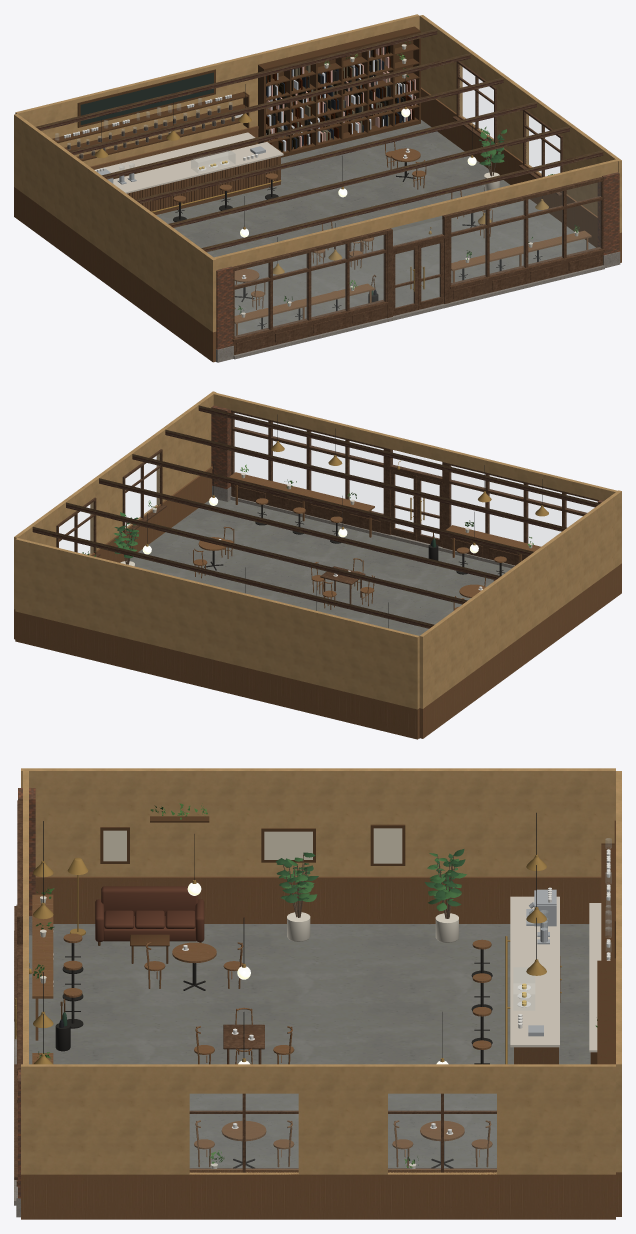
The model's file is cafe_interior.glb.
3 renders of one model, top to bottom at view 1: azimuth 30°, elevation 25°; view 2: azimuth 150°, elevation 25°; view 3: azimuth 270°, elevation 25°, orthographic. The views are drawn at different scales.
Visible parts, largest first — view 1: int_floor, WALL_front_shop_glass, WALL_left_plaster, WALL_front_shop_wood, int_beams, WALL_back_cafe_int_shelf, WALL_back_plaster, WALL_right_plaster, WALL_left_wainscot, WALL_front_front_plaster, WALL_back_books, WALL_right_wainscot (+17 smaller); view 2: WALL_back_plaster, int_floor, WALL_left_plaster, int_beams, WALL_back_wainscot, WALL_front_shop_glass, WALL_front_shop_wood, WALL_right_plaster, WALL_left_wainscot, WALL_front_front_plaster, WALL_right_wainscot, int_window_counter (+7 smaller); view 3: int_floor, WALL_left_plaster, WALL_right_plaster, WALL_right_wainscot, WALL_left_wainscot, WALL_right_winglass, int_bartop, int_sofa, WALL_back_cafe_int_shelf, WALL_left_prints, cafe_interior.1_inst, cafe_interior.2_inst (+18 smaller).
Part boxes in pixels (<box>): int_floor: <box>156,120,595,335</box>; WALL_front_shop_glass: <box>235,182,600,336</box>; WALL_left_plaster: <box>14,114,216,332</box>; WALL_front_shop_wood: <box>232,177,605,355</box>; int_beams: <box>36,29,603,251</box>; WALL_back_cafe_int_shelf: <box>52,26,420,179</box>; WALL_back_plaster: <box>15,14,419,166</box>; WALL_right_plaster: <box>419,15,621,232</box>; WALL_left_wainscot: <box>14,187,216,362</box>; WALL_front_front_plaster: <box>214,159,617,269</box>; WALL_back_books: <box>266,46,415,151</box>; WALL_right_wainscot: <box>421,87,621,262</box>; WALL_back_plaster: <box>15,538,419,709</box>; int_floor: <box>130,499,511,738</box>; WALL_left_plaster: <box>419,490,621,708</box>; int_beams: <box>32,405,600,628</box>; WALL_back_wainscot: <box>15,611,419,739</box>; WALL_front_shop_glass: <box>234,413,595,545</box>; WALL_front_shop_wood: <box>231,410,598,565</box>; WALL_right_plaster: <box>14,391,216,609</box>; WALL_left_wainscot: <box>419,563,621,738</box>; WALL_front_front_plaster: <box>213,393,617,500</box>; WALL_right_wainscot: <box>14,466,212,639</box>; int_window_counter: <box>229,472,540,562</box>; int_floor: <box>29,924,590,1168</box>; WALL_left_plaster: <box>21,768,615,876</box>; WALL_right_plaster: <box>21,1064,615,1174</box>; WALL_right_wainscot: <box>21,1169,615,1219</box>; WALL_left_wainscot: <box>35,876,601,923</box>; WALL_right_winglass: <box>190,1094,496,1169</box>; int_bartop: <box>510,896,559,1047</box>; int_sofa: <box>95,886,204,941</box>; WALL_back_cafe_int_shelf: <box>590,820,615,1064</box>; WALL_left_prints: <box>103,828,402,863</box>; cafe_interior.1_inst: <box>144,942,492,1167</box>; cafe_interior.2_inst: <box>172,942,464,1168</box>.
Bounding box in the file's own units: 14.25 × 3.42 × 12.26.
Materials: 36 (15 with a texture image).
